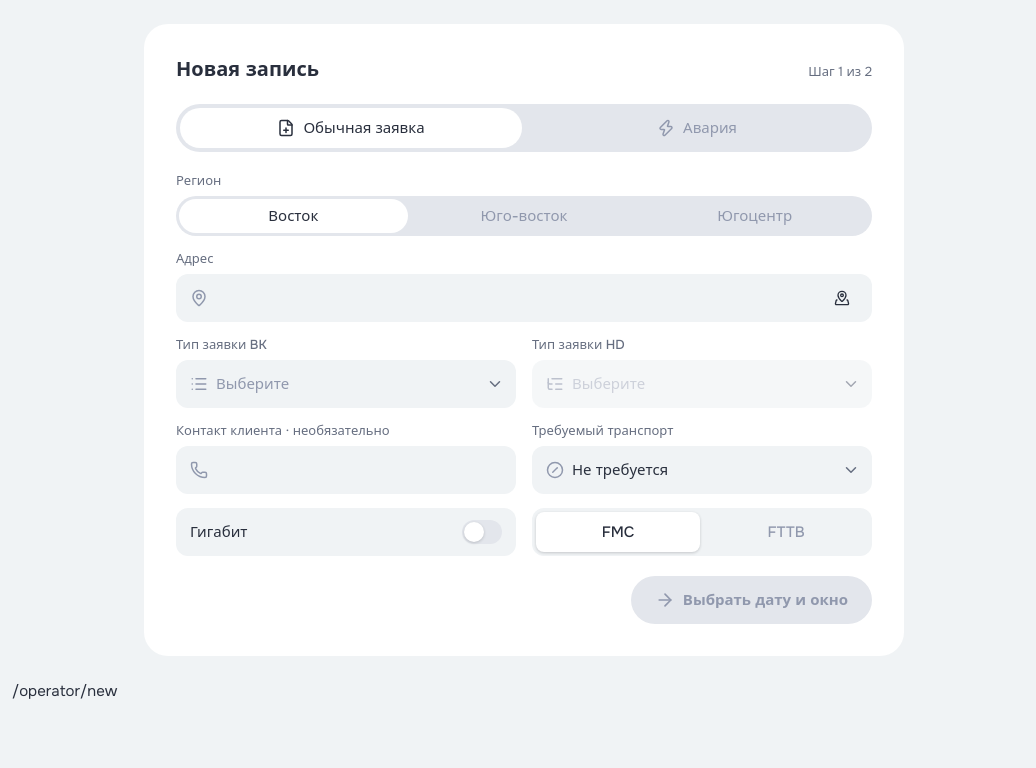
Test: O-01 вкладка «Авария» › вкладка — в адресе, шапка без «Шаг 1 из 2», окна не запрашиваются
The width and height of the screenshot is (1036, 768).
Click the tab "Авария": (697, 128) [526,108,868,148]
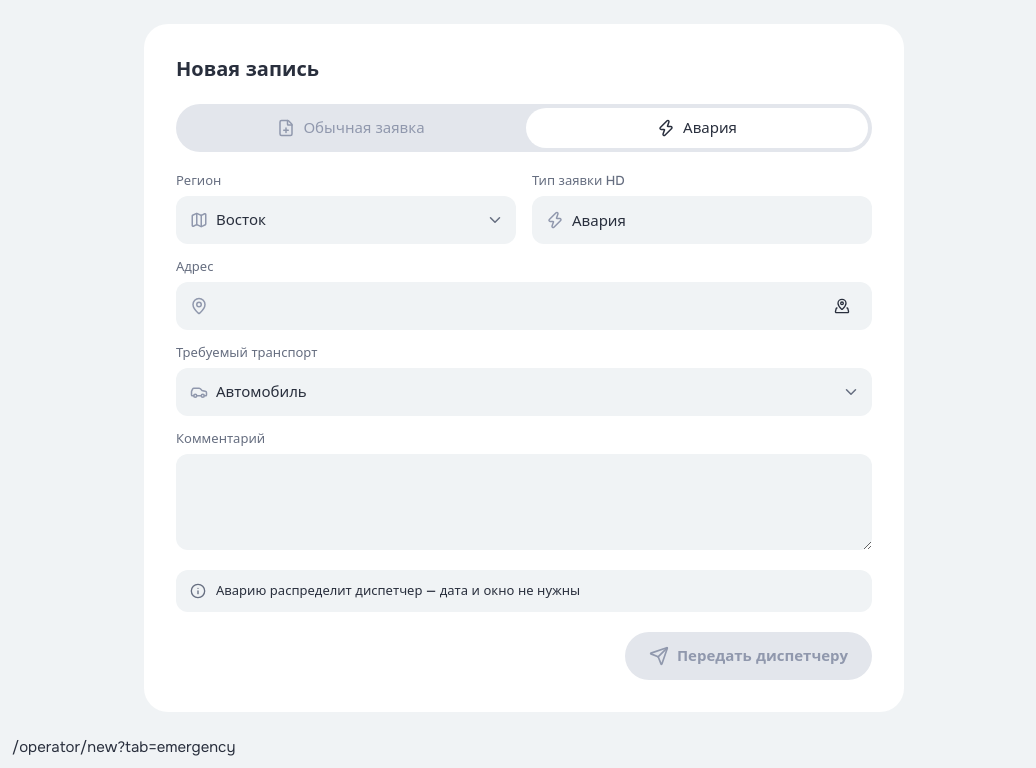
Now the text with test id "location" reads "/operator/new?tab=emergency", box [12,737,235,757]
Now the text "Шаг 1 из 2" is gone
Now the text "Аварию распределит диспетчер — дата и окно не нужны" is shown, box [216,582,580,599]
